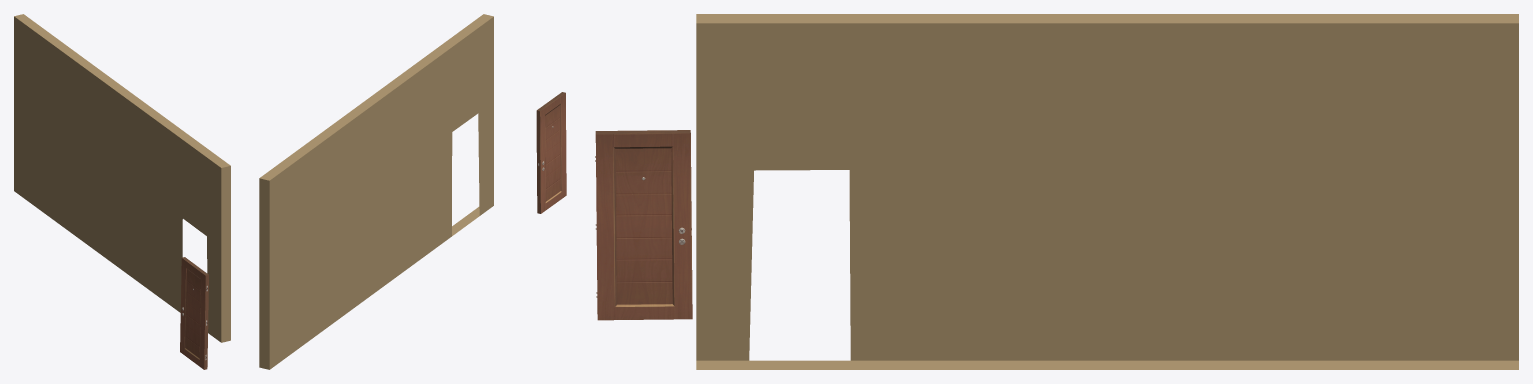
Rendered from 1wall.fbx.
The picture shows the model from 3 angles, left to right: view 1: azimuth 30°, elevation 25°; view 2: azimuth 150°, elevation 25°; view 3: azimuth 270°, elevation 25°; orthographic projection. The views are drawn at different scales.
Parts seen in each view (by area): view 1: 立方体.001, mesh_269.002; view 2: 立方体.001, mesh_269.002; view 3: 立方体.001, mesh_269.002.
Boxes of the visible parts, x1=… form: 立方体.001: x1=14, y1=14, x2=230, y2=342; mesh_269.002: x1=180, y1=257, x2=208, y2=369; 立方体.001: x1=259, y1=14, x2=493, y2=369; mesh_269.002: x1=536, y1=92, x2=566, y2=213; 立方体.001: x1=696, y1=14, x2=1518, y2=369; mesh_269.002: x1=595, y1=130, x2=692, y2=320.
Bounding box in the file's own units: 75.12 × 241 × 583.
2 materials, 1 textured.
